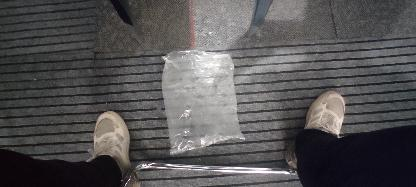Plastic Bag: (162, 51, 244, 155)
